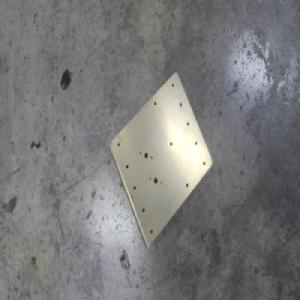MetalSheet: (107, 70, 213, 251)
